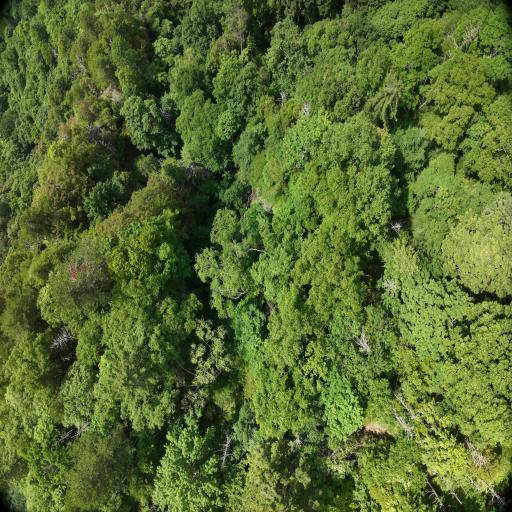dead-tree: (428, 472, 478, 508), (389, 389, 421, 441), (447, 23, 486, 58), (224, 1, 247, 56), (43, 322, 78, 352), (56, 420, 92, 446), (464, 436, 488, 466), (480, 478, 504, 505), (355, 332, 374, 358), (98, 140, 118, 159), (76, 56, 92, 78), (383, 280, 403, 297), (160, 108, 174, 132), (384, 216, 402, 234), (56, 131, 75, 145), (48, 182, 70, 193), (276, 91, 288, 110), (293, 431, 301, 451), (50, 48, 58, 58)
sick-tree: (66, 255, 96, 284)
